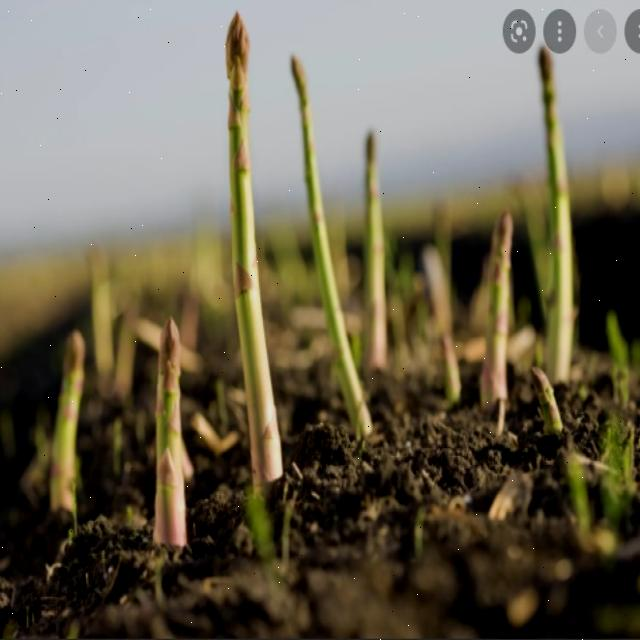aspargus: (291, 56, 371, 437), (225, 13, 284, 490), (540, 14, 576, 390), (151, 320, 188, 552), (47, 332, 88, 518), (484, 215, 515, 406)
